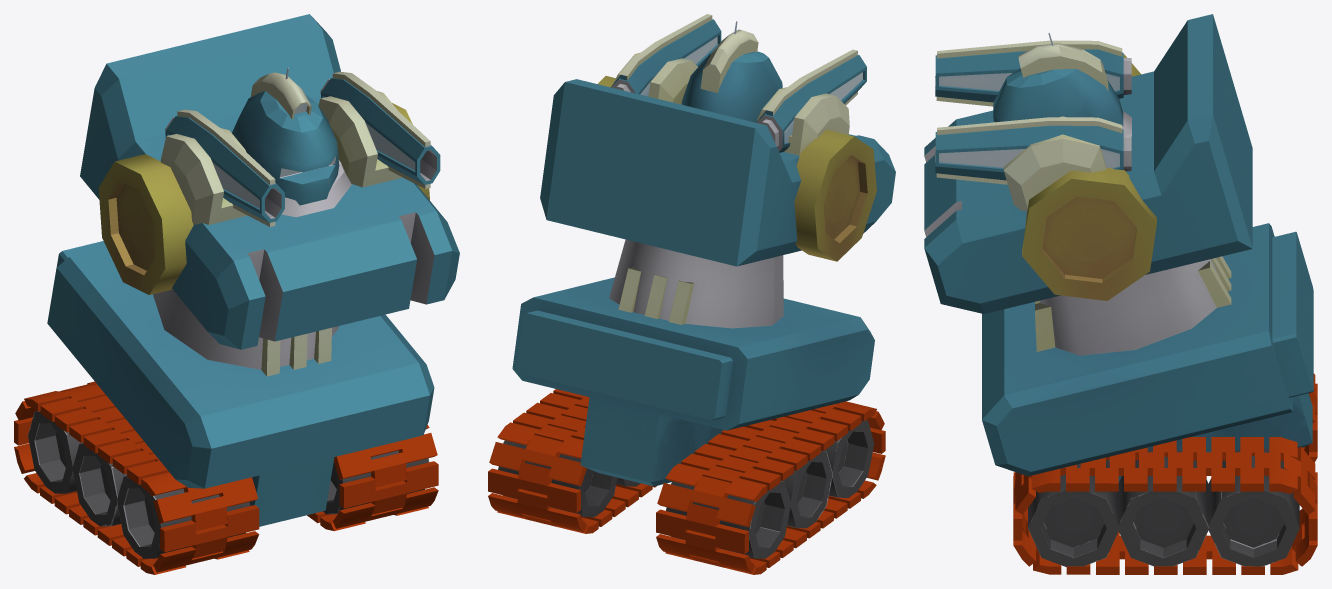
The model's file is player_move9.obj.
3 renders of one model, left to right at view 1: azimuth 30°, elevation 25°; view 2: azimuth 150°, elevation 25°; view 3: azimuth 270°, elevation 25°, orthographic. The views are drawn at different scales.
Visible parts, largest first — view 1: Object004, Box038, Object012, Object011, Box042; view 2: Object004, Box038, Box042, Object011, Object012; view 3: Object004, Object011, Box042, Object012, Box038.
Boxes of the visible parts, x1,y1,x2,y2 form: Object004: [47, 14, 459, 526]; Box038: [14, 381, 259, 574]; Object012: [165, 71, 440, 226]; Object011: [28, 411, 429, 558]; Box042: [307, 425, 438, 531]; Object004: [512, 29, 895, 486]; Box038: [656, 401, 885, 574]; Box042: [488, 389, 657, 533]; Object011: [498, 420, 874, 558]; Object012: [611, 14, 866, 152]; Object004: [924, 14, 1313, 482]; Object011: [1028, 448, 1299, 566]; Box042: [1013, 437, 1317, 574]; Object012: [935, 40, 1131, 184]; Box038: [1206, 373, 1317, 478].
Bounding box in the file's own units: 110 × 181 × 135.
Materials: 3 (1 with a texture image).
